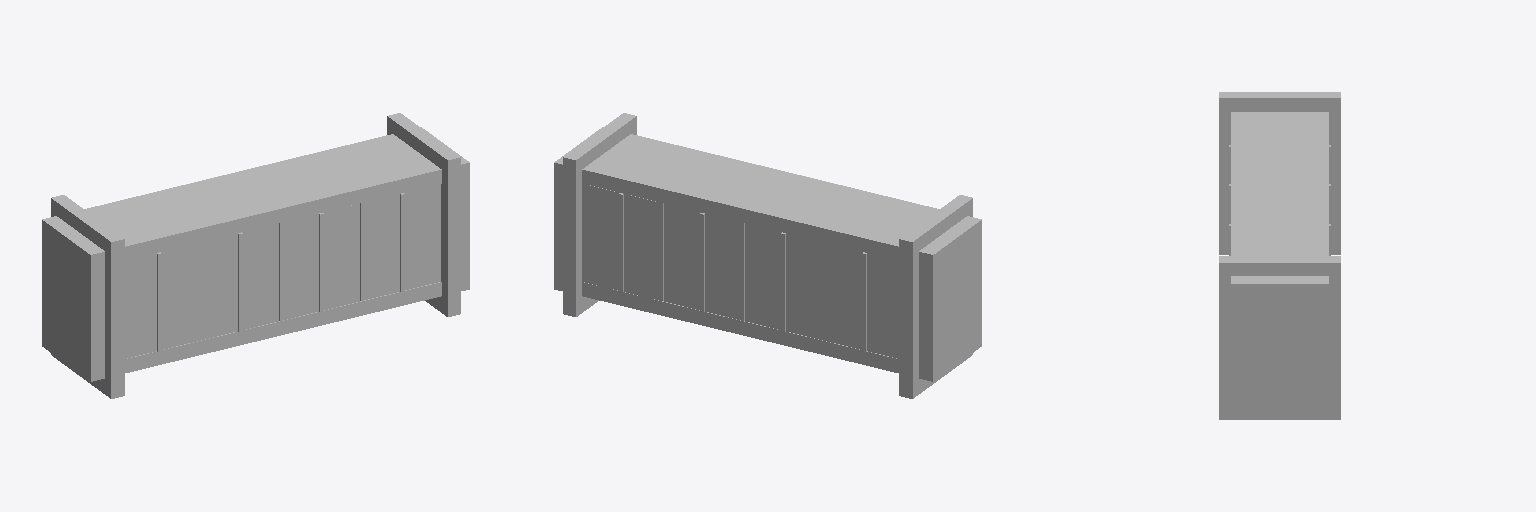
Rendered from TV table.obj.
3 renders of one model, left to right at view 1: azimuth 30°, elevation 25°; view 2: azimuth 150°, elevation 25°; view 3: azimuth 270°, elevation 25°, orthographic.
Parts seen in each view (by area): view 1: B9-Melrose_Plasma_Cabinet_Wood_Texture_Main_Cabinet_Body_do.000; view 2: B9-Melrose_Plasma_Cabinet_Wood_Texture_Main_Cabinet_Body_do.000; view 3: B9-Melrose_Plasma_Cabinet_Wood_Texture_Main_Cabinet_Body_do.000.
Part boxes in pixels (bbox=[...]): B9-Melrose_Plasma_Cabinet_Wood_Texture_Main_Cabinet_Body_do.000: bbox=[42, 113, 469, 398]; B9-Melrose_Plasma_Cabinet_Wood_Texture_Main_Cabinet_Body_do.000: bbox=[554, 113, 981, 398]; B9-Melrose_Plasma_Cabinet_Wood_Texture_Main_Cabinet_Body_do.000: bbox=[1219, 92, 1340, 419].
Bounding box in the file's own units: 1.27 × 0.5043 × 0.3533.